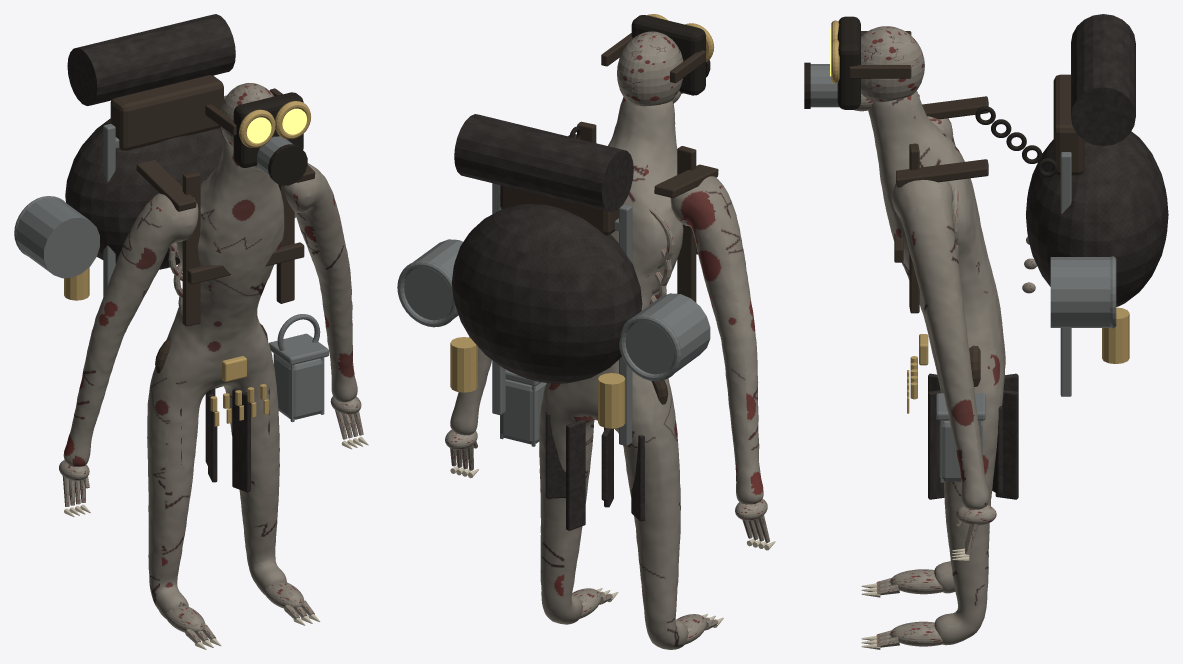
Rendered from collector_creature_v2.glb.
The picture shows the model from 3 angles, left to right: view 1: azimuth 30°, elevation 25°; view 2: azimuth 150°, elevation 25°; view 3: azimuth 270°, elevation 25°; orthographic projection. The views are drawn at different scales.
Parts seen in each view (by area): view 1: CollectorV2_Body, V2_PackRoll, V2_PackSack, V2_PackFlap, V2_Pot_-1, V2_LanternBody, V2_Strap_-1, V2_Rag_8, V2_MaskPlate, V2_Strap_1, V2_ShoulderStrap_-1, V2_FilterCap (+15 smaller); view 2: CollectorV2_Body, V2_PackSack, V2_PackRoll, V2_Pot_-1, V2_Skull, V2_Pot_1, V2_LanternBody, V2_MaskPlate, V2_Rag_2, V2_PackFlap, V2_Strap_-1, V2_PackBar_-1 (+10 smaller); view 3: CollectorV2_Body, V2_PackSack, V2_PackRoll, V2_Pot_1, V2_Skull, V2_PackFlap, V2_MaskPlate, V2_Rag_2, V2_PackBar_1, V2_ShoulderStrap_1, V2_Rag_8, V2_Bottle_1 (+10 smaller).
Boxes of the visible parts, left/top/right/bottom form: CollectorV2_Body: left=63, top=141, right=357, bottom=618; V2_PackRoll: left=67, top=14, right=235, bottom=105; V2_PackSack: left=65, top=118, right=225, bottom=269; V2_PackFlap: left=110, top=75, right=223, bottom=150; V2_Pot_-1: left=16, top=197, right=99, bottom=278; V2_LanternBody: left=274, top=354, right=323, bottom=419; V2_Strap_-1: left=182, top=171, right=200, bottom=326; V2_Rag_8: left=232, top=388, right=250, bottom=492; V2_MaskPlate: left=233, top=92, right=303, bottom=167; V2_Strap_1: left=276, top=184, right=294, bottom=303; V2_ShoulderStrap_-1: left=136, top=160, right=196, bottom=211; V2_FilterCap: left=268, top=144, right=307, bottom=185; CollectorV2_Body: left=450, top=97, right=763, bottom=649; V2_PackSack: left=451, top=204, right=642, bottom=383; V2_PackRoll: left=454, top=114, right=633, bottom=212; V2_Pot_-1: left=625, top=293, right=710, bottom=374; V2_Skull: left=617, top=31, right=683, bottom=106; V2_Pot_1: left=404, top=239, right=462, bottom=320; V2_LanternBody: left=500, top=379, right=546, bottom=444; V2_MaskPlate: left=631, top=15, right=705, bottom=95; V2_Rag_2: left=566, top=419, right=585, bottom=530; V2_PackFlap: left=500, top=185, right=618, bottom=235; V2_Strap_-1: left=677, top=146, right=696, bottom=302; V2_PackBar_-1: left=619, top=204, right=632, bottom=445; CollectorV2_Body: left=868, top=90, right=1005, bottom=645; V2_PackSack: left=1026, top=131, right=1168, bottom=306; V2_PackRoll: left=1071, top=14, right=1135, bottom=146; V2_Pot_1: left=1050, top=257, right=1111, bottom=327; V2_Skull: left=861, top=26, right=924, bottom=102; V2_PackFlap: left=1053, top=74, right=1084, bottom=175; V2_MaskPlate: left=837, top=16, right=860, bottom=109; V2_Rag_2: left=995, top=390, right=1018, bottom=499; V2_PackBar_1: left=1060, top=152, right=1071, bottom=396; V2_ShoulderStrap_1: left=896, top=159, right=988, bottom=187; V2_Rag_8: left=928, top=390, right=944, bottom=499; V2_Bottle_1: left=1102, top=307, right=1129, bottom=363.
Size of the model in its own units: 1.21 by 2.11 by 1.18.
Materials: 8 (2 with a texture image).
